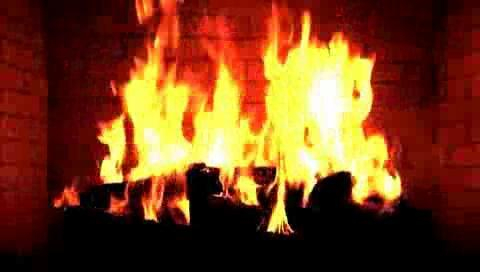fire: (107, 36, 385, 215)
